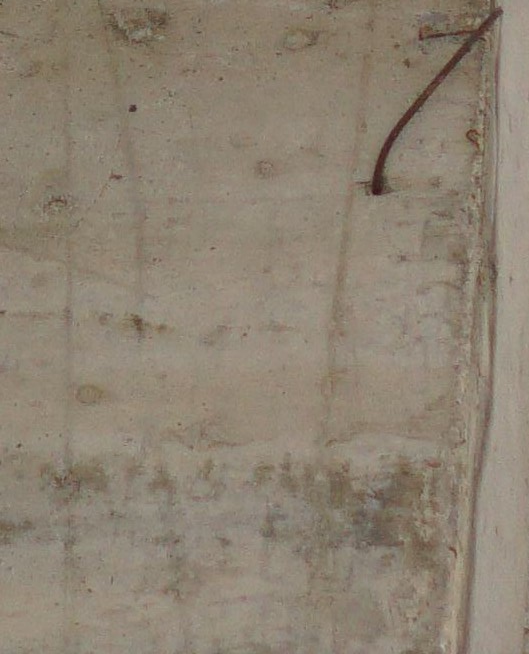Exposed reinforcement: (371, 5, 504, 196)
